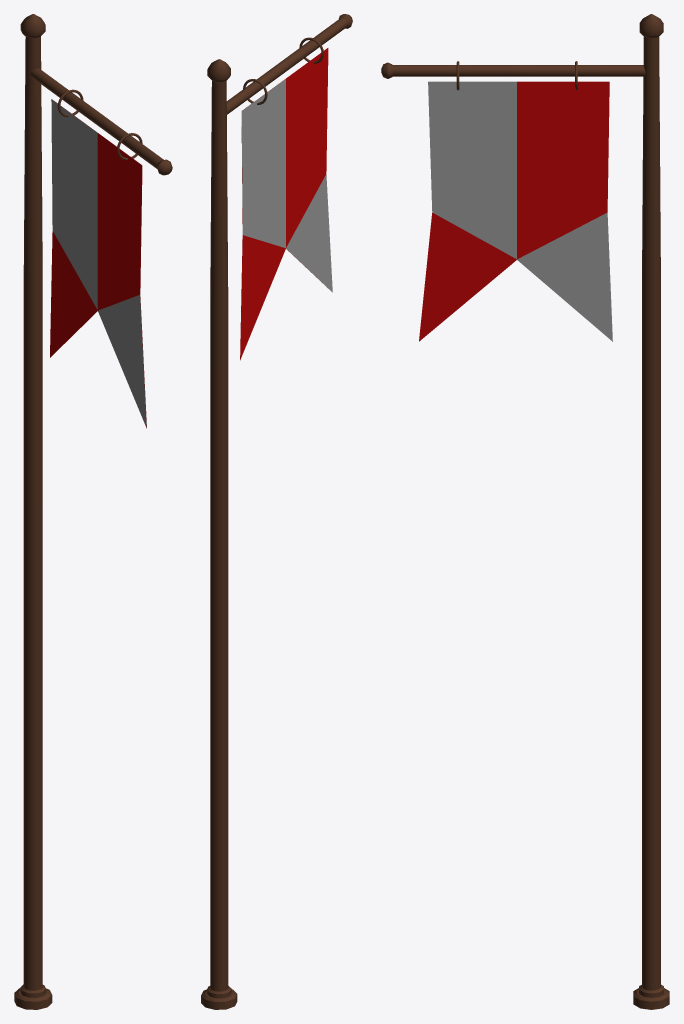
The model's file is Flag_red_white.obj.
3 renders of one model, left to right at view 1: azimuth 30°, elevation 25°; view 2: azimuth 150°, elevation 25°; view 3: azimuth 270°, elevation 25°, orthographic. The views are drawn at different scales.
Visible parts, largest first — view 1: Tube001, Box004, Box003, Box002, Tube002, ChamferCyl002, ChamferCyl003; view 2: Tube001, Box004, Box003, Box002, Tube002, ChamferCyl002, ChamferCyl003; view 3: Box004, Tube001, Box002, Box001, Tube002.
Boxes of the visible parts, x1,y1,x2,y2 form: Tube001: [23, 36, 42, 990]; Box004: [51, 99, 146, 428]; Box003: [50, 102, 142, 357]; Box002: [50, 176, 142, 357]; Tube002: [30, 68, 163, 168]; ChamferCyl002: [14, 988, 52, 1009]; ChamferCyl003: [20, 14, 45, 37]; Tube001: [210, 80, 228, 991]; Box004: [241, 79, 332, 292]; Box003: [241, 48, 328, 247]; Box002: [240, 235, 285, 360]; Tube002: [226, 18, 347, 114]; ChamferCyl002: [201, 989, 237, 1009]; ChamferCyl003: [207, 59, 230, 82]; Box004: [428, 81, 612, 341]; Tube001: [642, 36, 660, 990]; Box002: [517, 81, 609, 259]; Box001: [419, 212, 516, 341]; Tube002: [392, 65, 645, 76].
Size of the model in its own units: 2.58 by 73.53 by 19.44.
